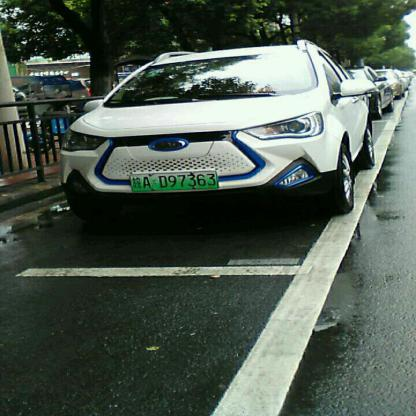lp: (129, 170, 217, 192)
